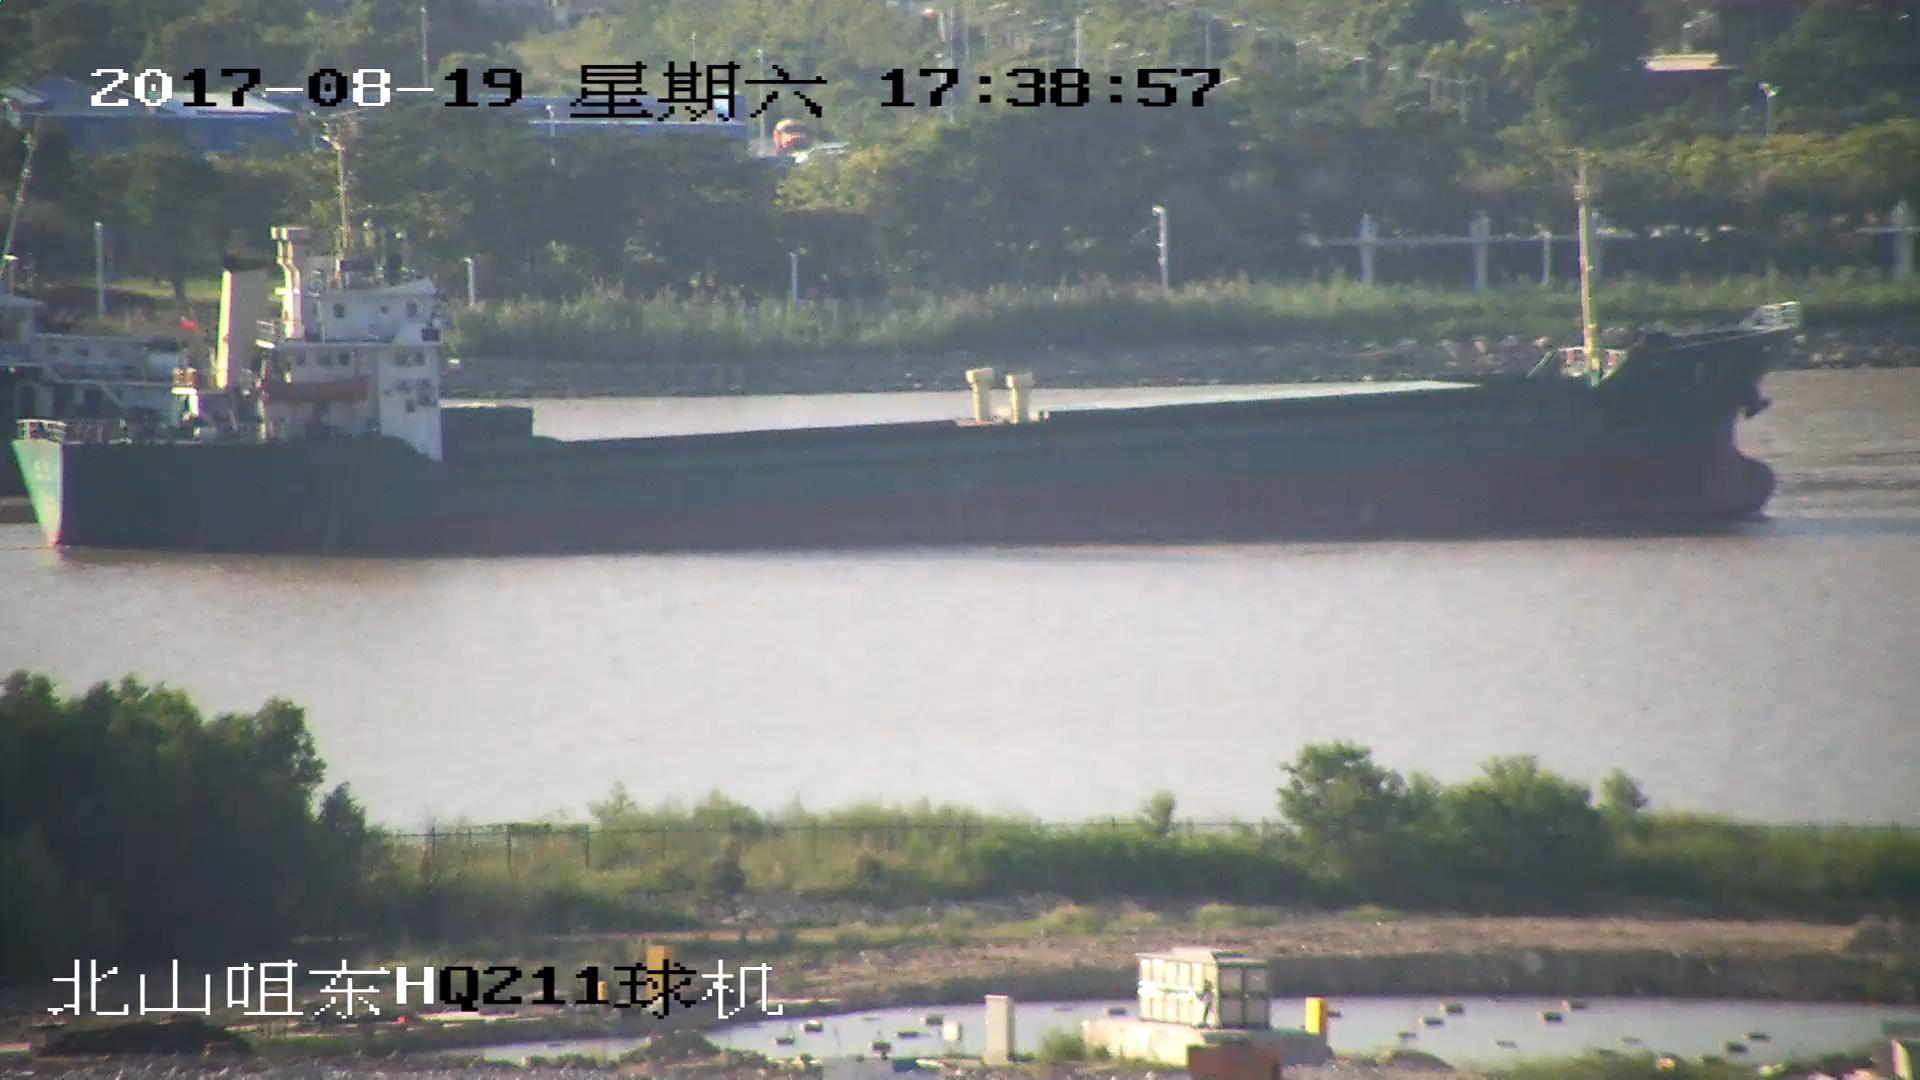general cargo ship: (21, 169, 1789, 558)
